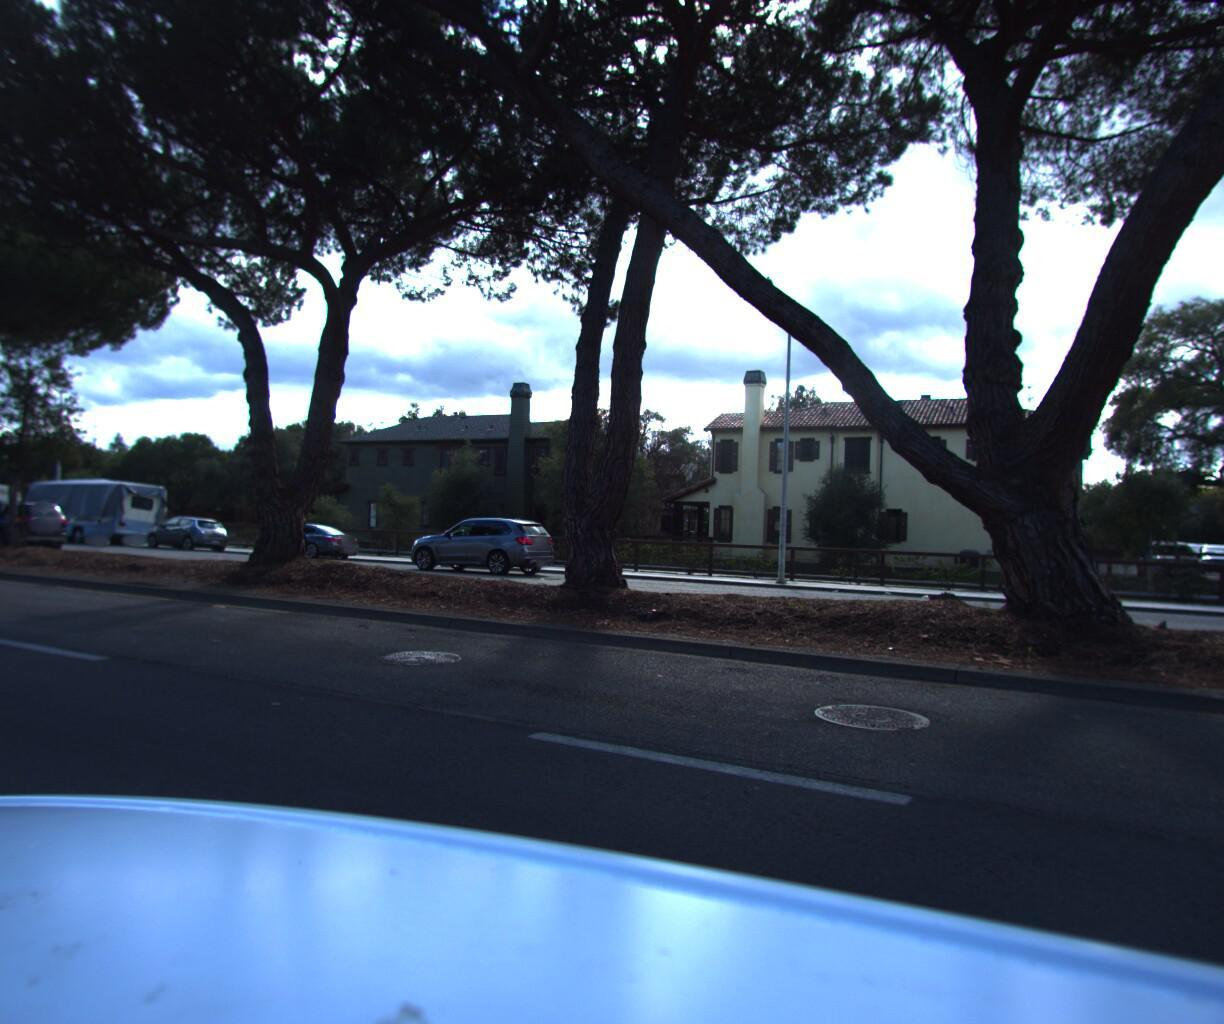car: (402, 511, 561, 573), (245, 516, 366, 557), (137, 508, 235, 549), (0, 495, 74, 548)
other_vehicle: (15, 472, 171, 546), (0, 476, 28, 533)
